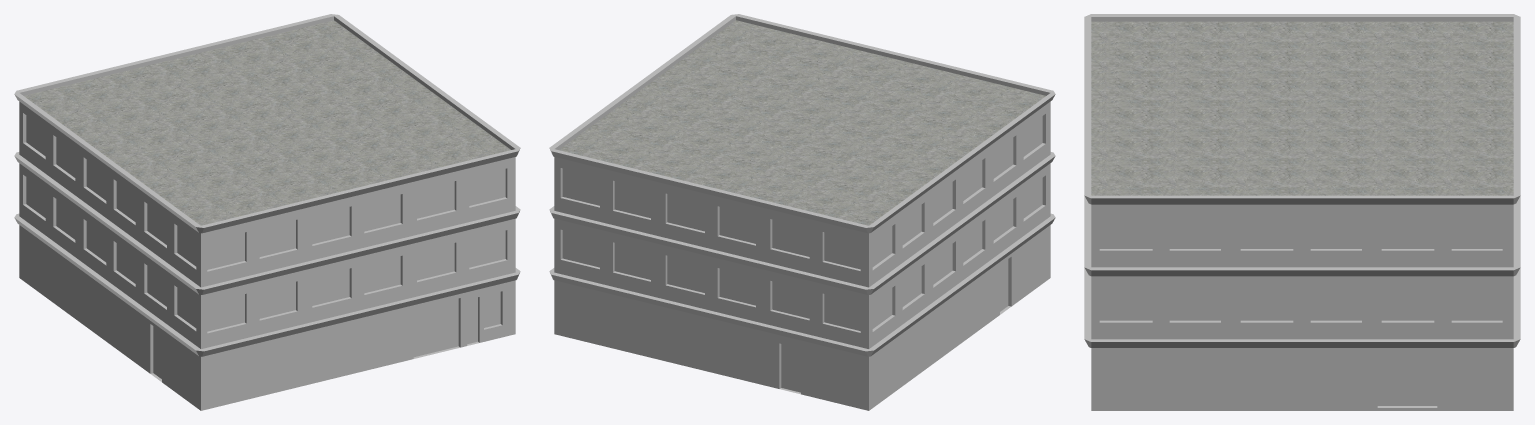
Rendered from RV_Building_Type_A_02.fbx.
3 renders of one model, left to right at view 1: azimuth 30°, elevation 25°; view 2: azimuth 150°, elevation 25°; view 3: azimuth 270°, elevation 25°, orthographic. The views are drawn at different scales.
Visible parts, largest first — view 1: RV_Building_Type_A_02; view 2: RV_Building_Type_A_02; view 3: RV_Building_Type_A_02.
Boxes of the visible parts, x1,y1,x2,y2 form: RV_Building_Type_A_02: [14, 14, 520, 410]; RV_Building_Type_A_02: [549, 14, 1055, 410]; RV_Building_Type_A_02: [1084, 14, 1520, 410].
Bounding box in the file's own units: 1586 × 864 × 1586.
